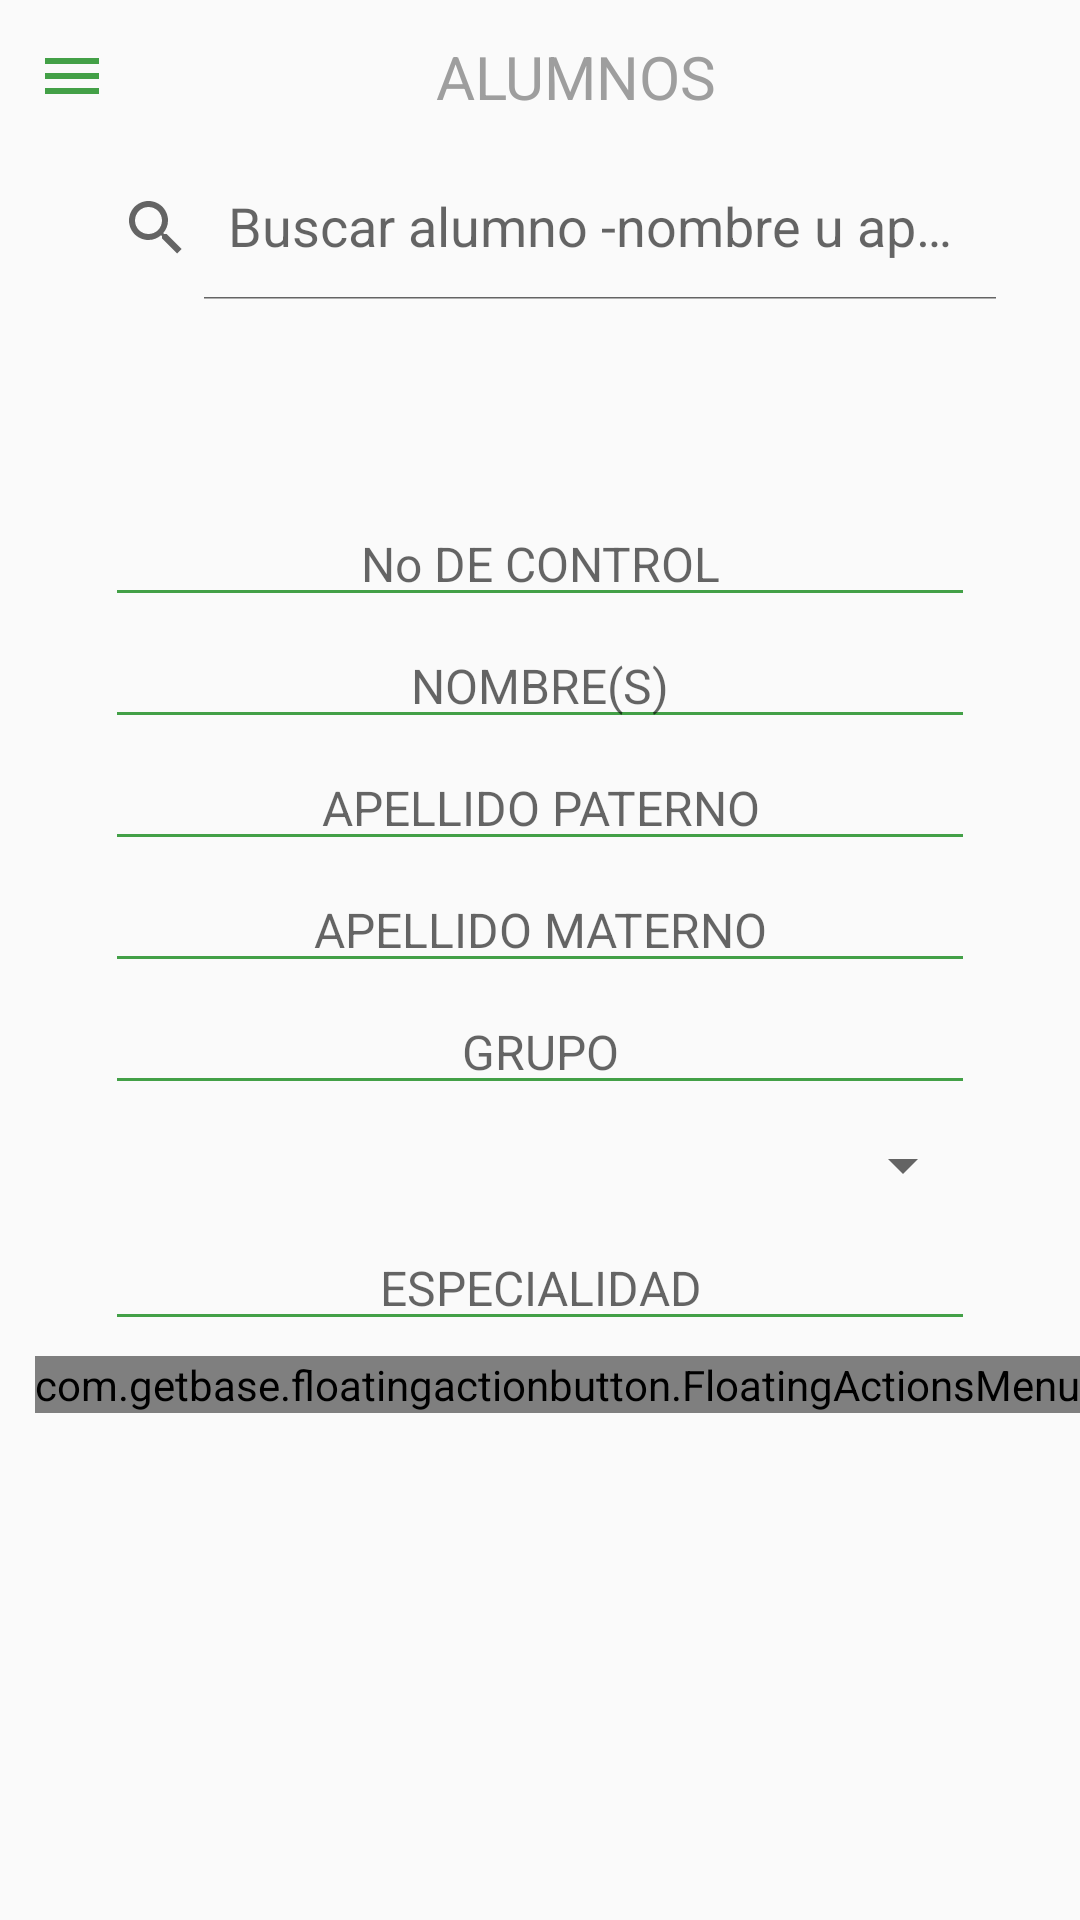

Icons on this 1080*1920 Android screen, each with the point to tap as [x,y]:
menu: [72,76]
